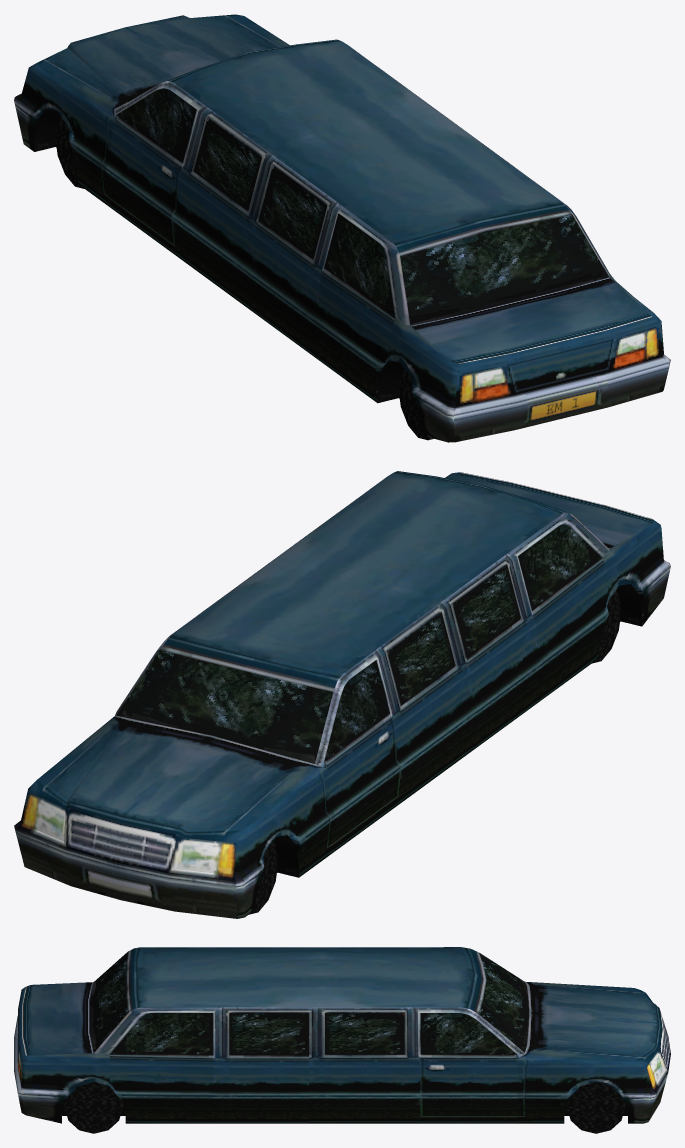
File: LIMOSINE_BODY.glb
3 renders of one model, top to bottom at view 1: azimuth 30°, elevation 25°; view 2: azimuth 150°, elevation 25°; view 3: azimuth 270°, elevation 25°, orthographic. The views are drawn at different scales.
Parts seen in each view (by area): view 1: LIMOSINE_BODY, LIMO_REAR_LEFT_DOOR, LIMO_FRONT_LEFT_DOOR, LIMO_TYRE_RIGHT (×2); view 2: LIMOSINE_BODY, LIMO_REAR_LEFT_DOOR, LIMO_FRONT_LEFT_DOOR, LIMO_TYRE_RIGHT (×2); view 3: LIMOSINE_BODY, LIMO_REAR_RIGHT_DOOR, LIMO_FRONT_RIGHT_DOOR, LIMO_TYRE_LEFT (×2).
Boxes of the visible parts, x1,y1,x2,y2 form: LIMOSINE_BODY: (14, 14, 670, 442); LIMO_REAR_LEFT_DOOR: (313, 213, 395, 401); LIMO_FRONT_LEFT_DOOR: (105, 88, 196, 255); LIMO_TYRE_RIGHT (×2): (55, 116, 433, 440); LIMOSINE_BODY: (14, 471, 670, 918); LIMO_REAR_LEFT_DOOR: (518, 524, 608, 701); LIMO_FRONT_LEFT_DOOR: (324, 660, 401, 853); LIMO_TYRE_RIGHT (×2): (249, 591, 621, 914); LIMOSINE_BODY: (14, 947, 670, 1123); LIMO_REAR_RIGHT_DOOR: (109, 1013, 213, 1123); LIMO_FRONT_RIGHT_DOOR: (420, 1013, 517, 1123); LIMO_TYRE_LEFT (×2): (64, 1081, 625, 1133).
Bounding box in the file's own units: 2.43 × 1.79 × 8.24.
3 materials, 3 textured.
